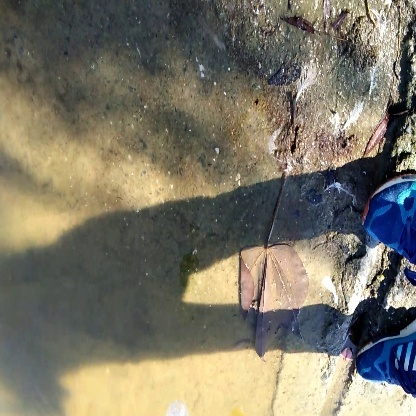leaf: (236, 172, 311, 364)
